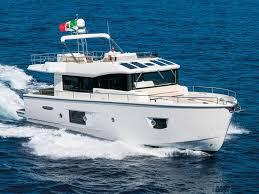Ship: (25, 19, 240, 153)
